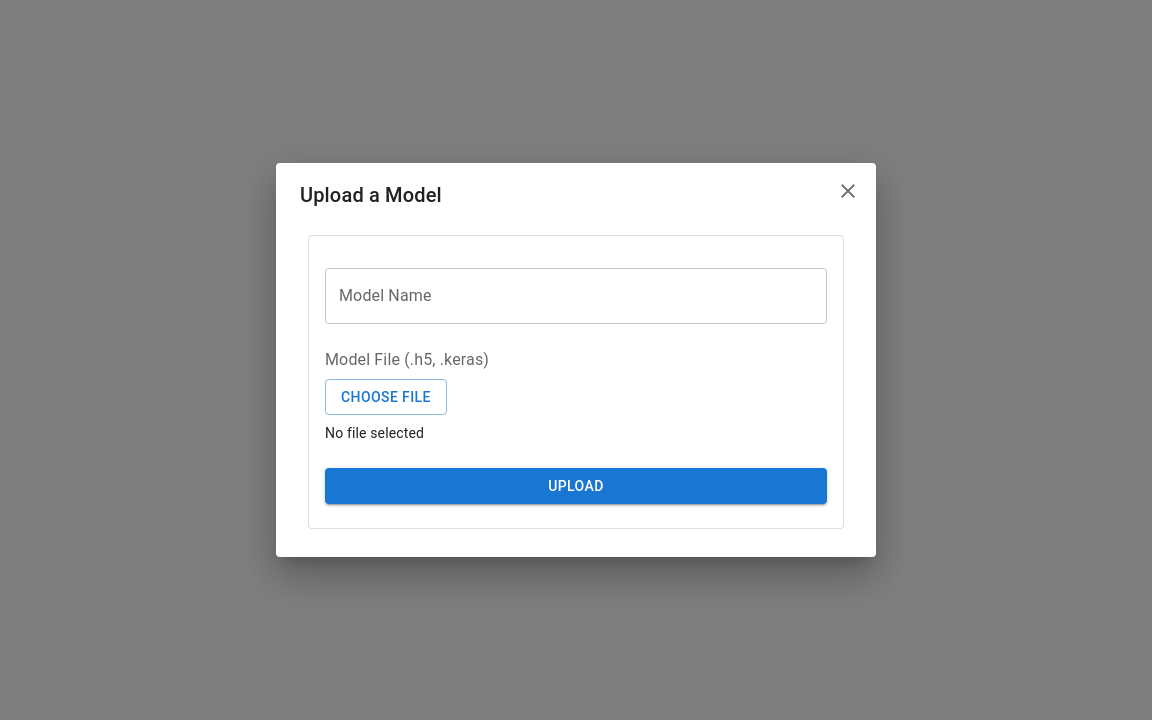
ModelUpload › shows error if fields are empty on upload
Click the button "Upload" at (576, 486), box [325, 468, 827, 504]
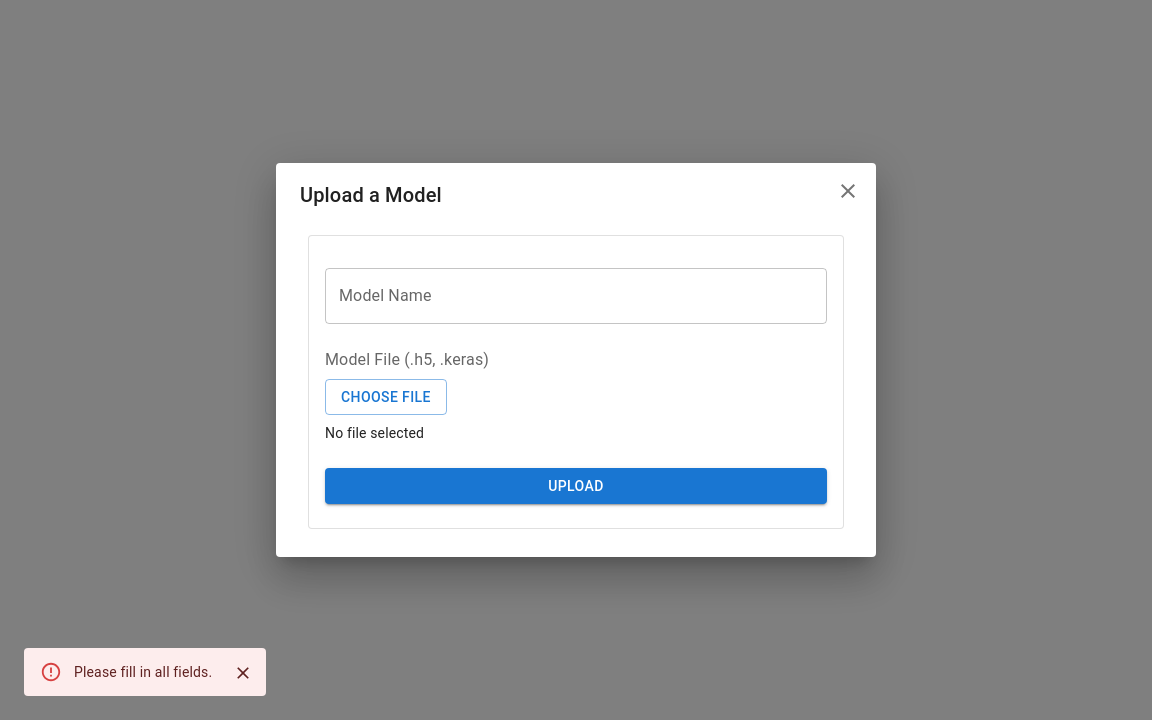
Expected: the text "Please fill in all fields." is shown, [74, 664, 212, 680]
